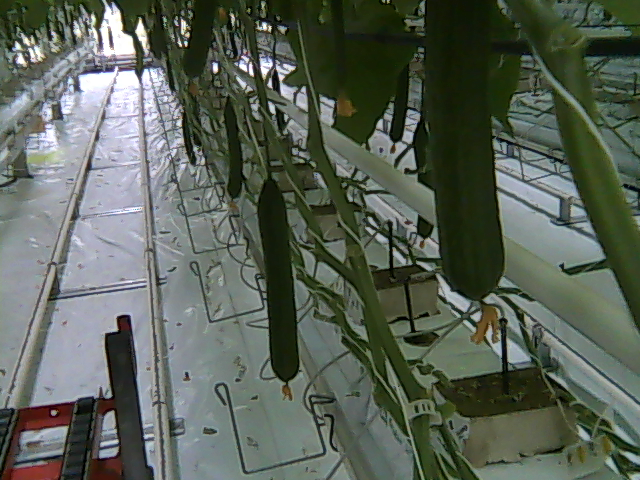concombre: (421, 1, 508, 346), (255, 170, 302, 400)
